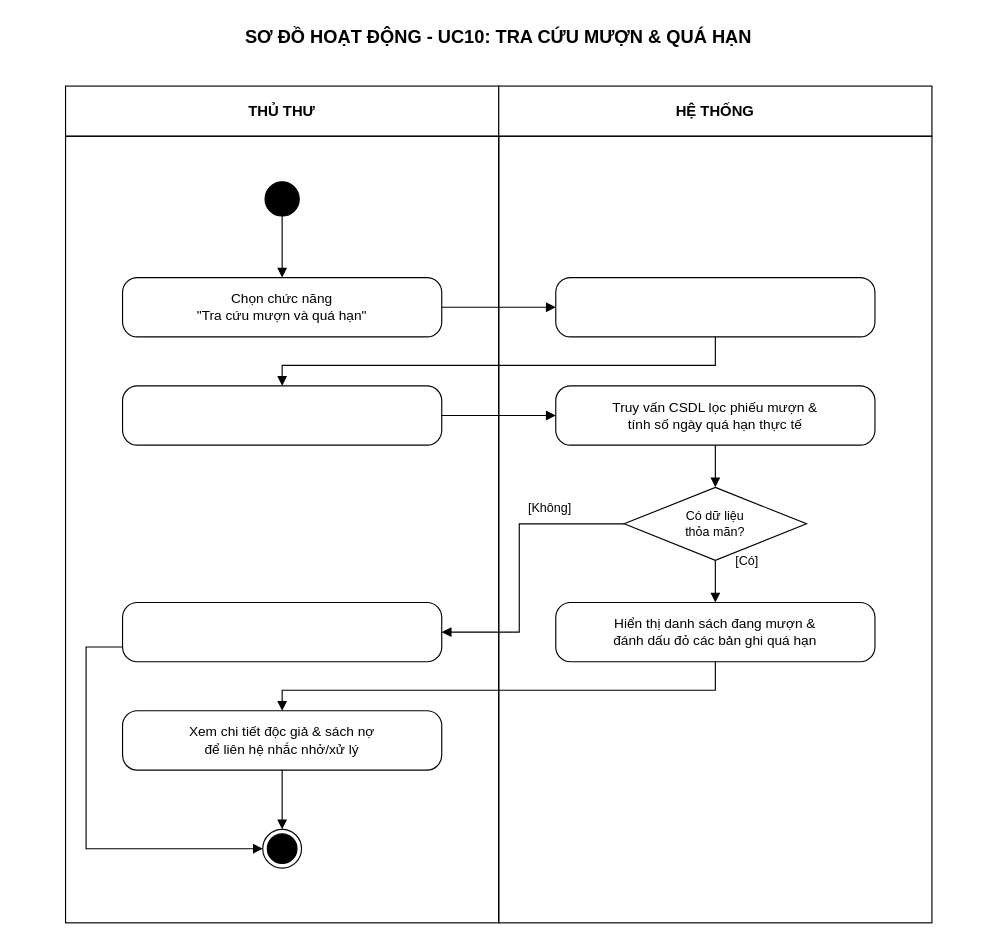
Some shapes in this 996 by 943 pixel diagram are drawn without their labels. Here are the shapes that lost their labels. From the top down, the centre of each, then its label:
point 715,306: Hiển thị bộ lọc tra cứu (Độc giả, Mã sách, Hạn trả...)
point 281,415: Chọn tiêu chí lọc (hoặc chọn "Tất cả sách quá hạn")
point 281,631: Hiển thị thông báo: "Không có sách nào bị quá hạn"
